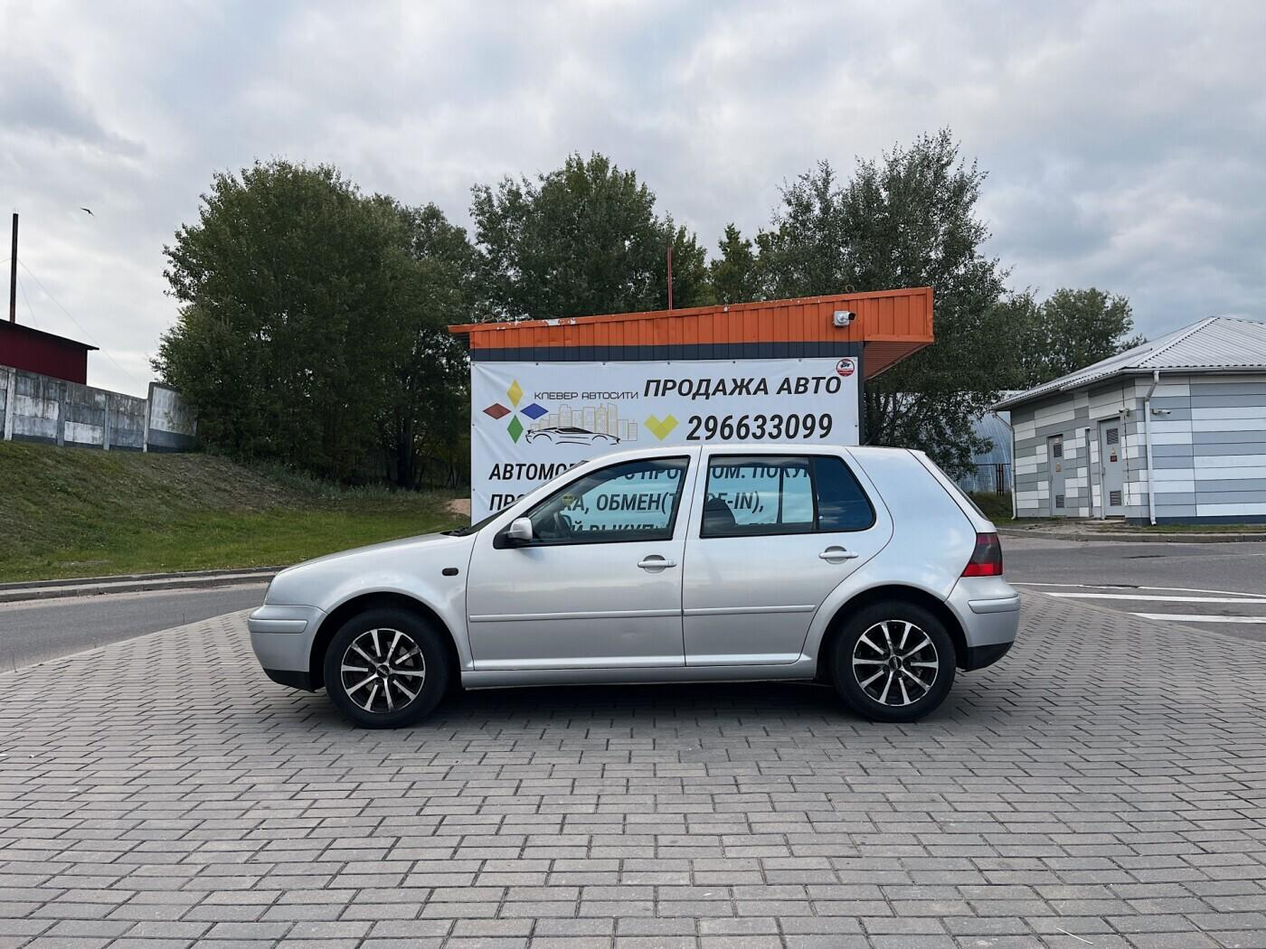Golf_1997-2006: (250, 436, 1016, 737)
